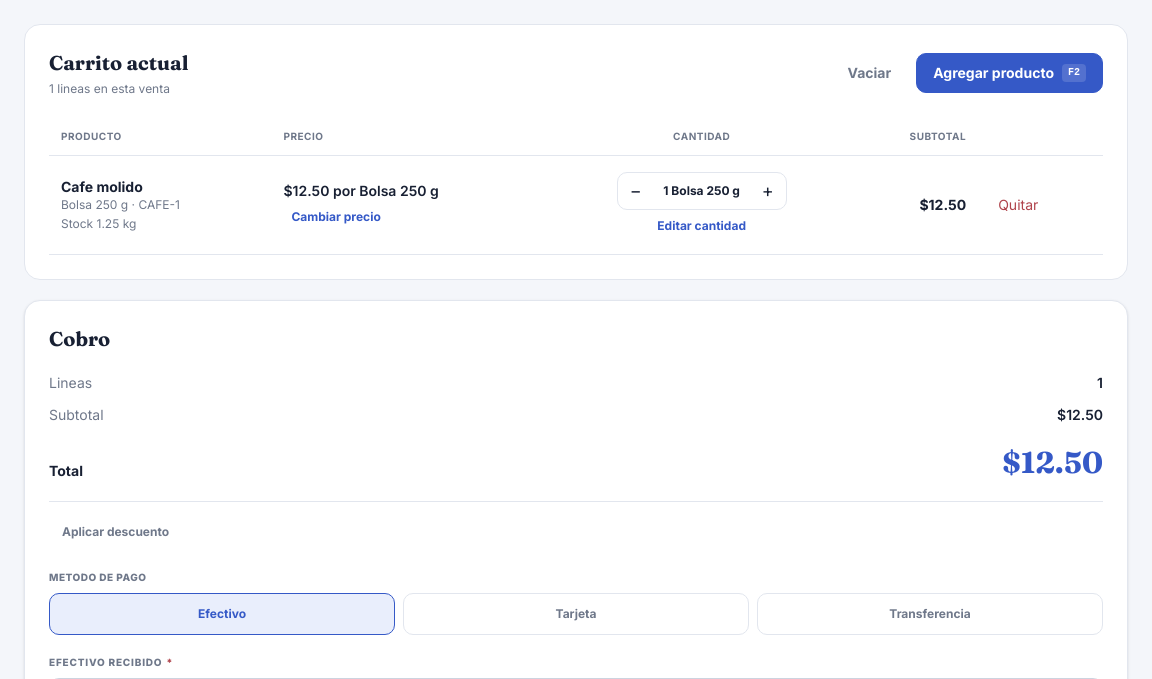
Test case: PosView › previews discounts without mutating and only applies them on save
The width and height of the screenshot is (1152, 679).
Click the button "Aplicar descuento" at (116, 532), box [49,514,182,550]
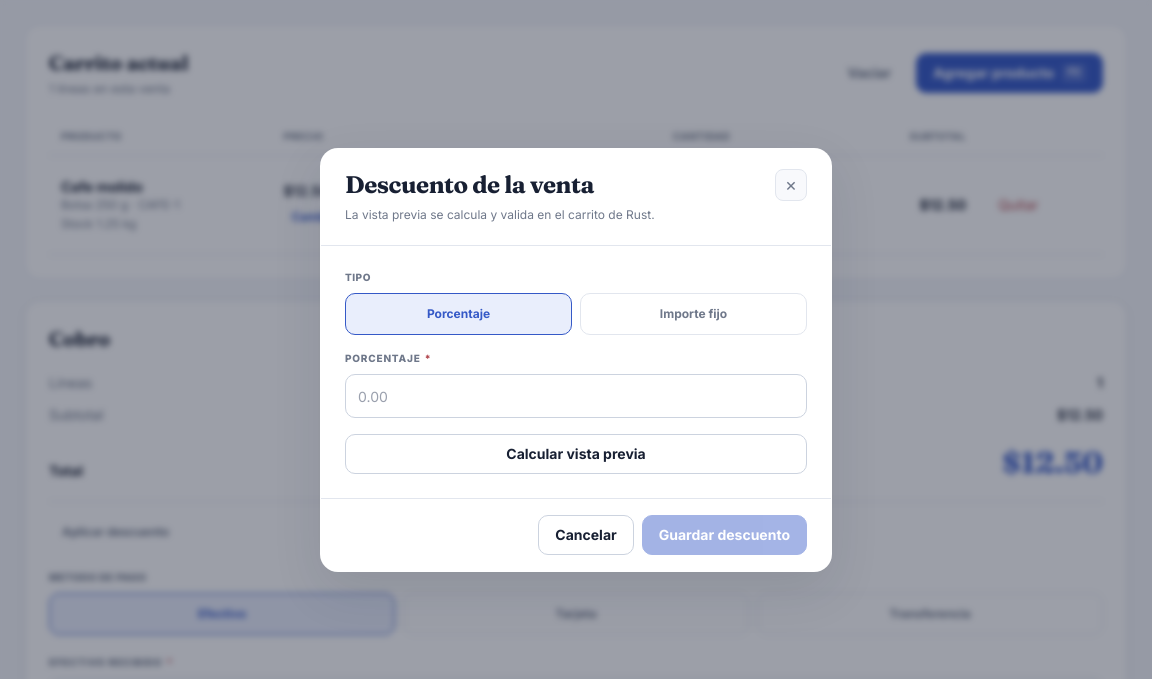
Type "10.00" into the field labelled "Porcentaje" at (576, 396), box [345,374,807,418]
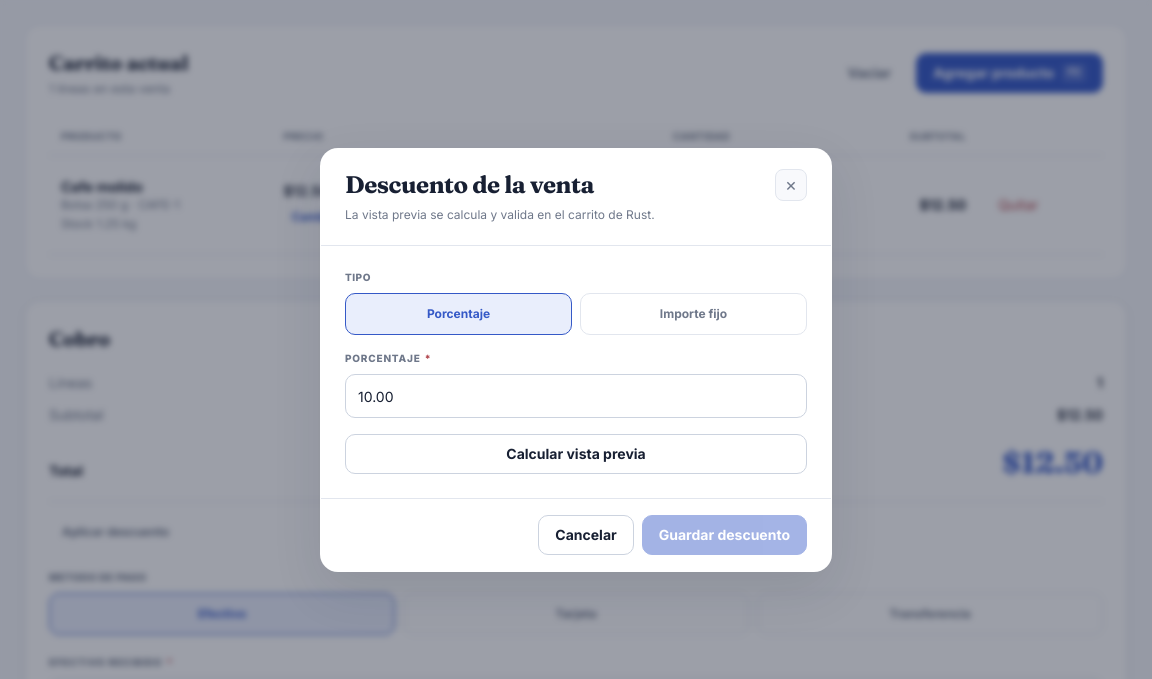
Click the button "Calcular vista previa" at (576, 454), box [345,434,807,474]
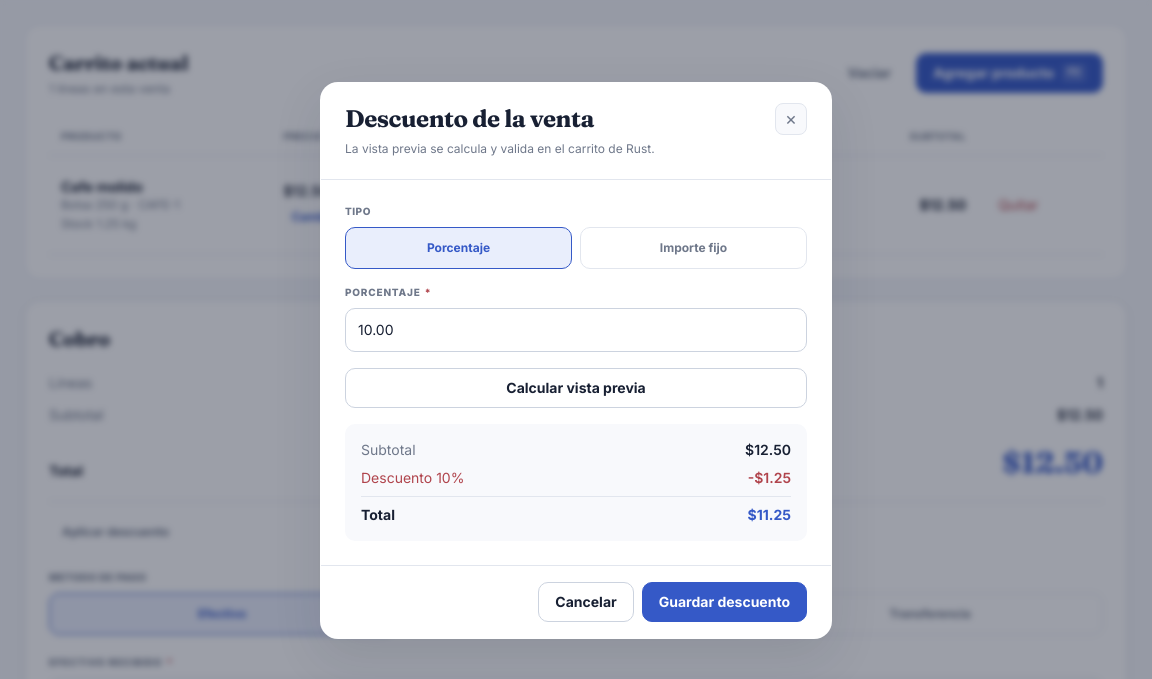
Now the text "Descuento 10%" is shown, box [361,468,464,488]
Click the button "Guardar descuento" at (724, 602), box [642,582,807,622]
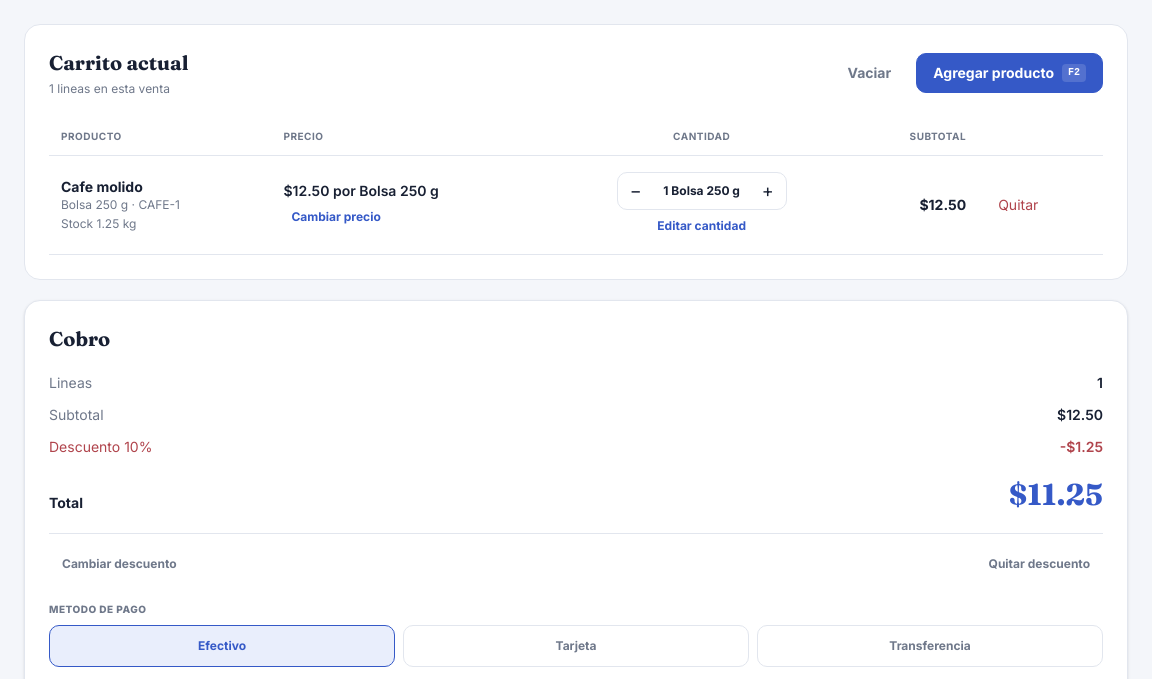
Now the heading "Descuento de la venta" is gone
